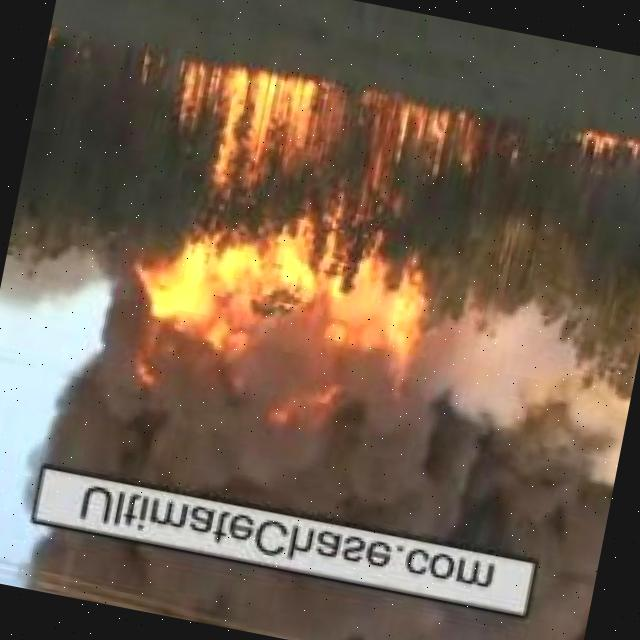fire: (126, 51, 486, 438), (570, 125, 640, 179)
